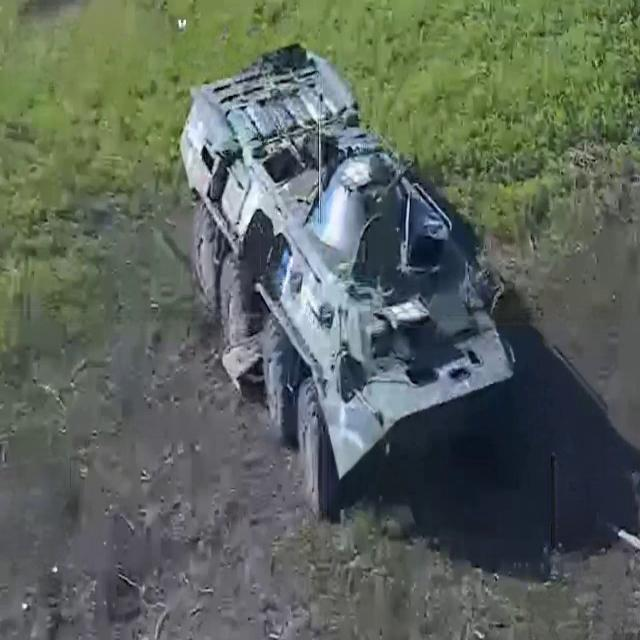APC: (179, 37, 521, 524)
